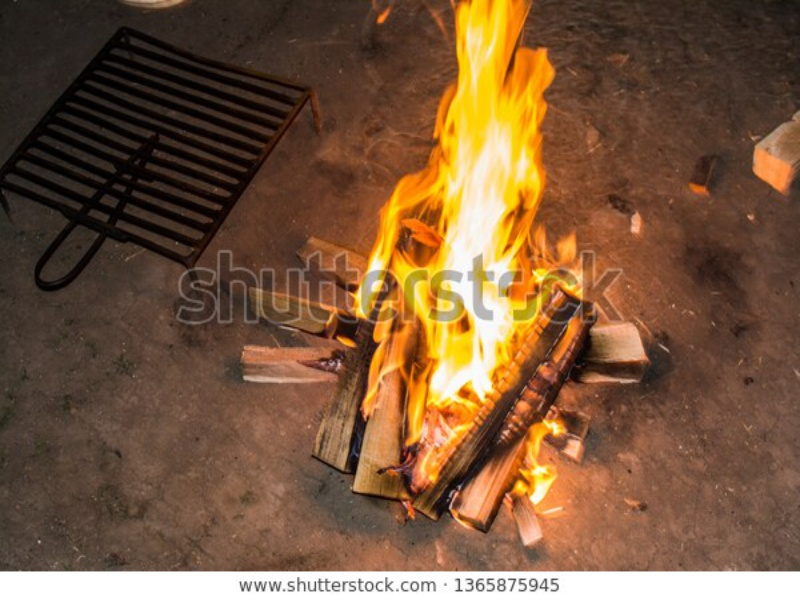fire: (350, 2, 581, 496)
